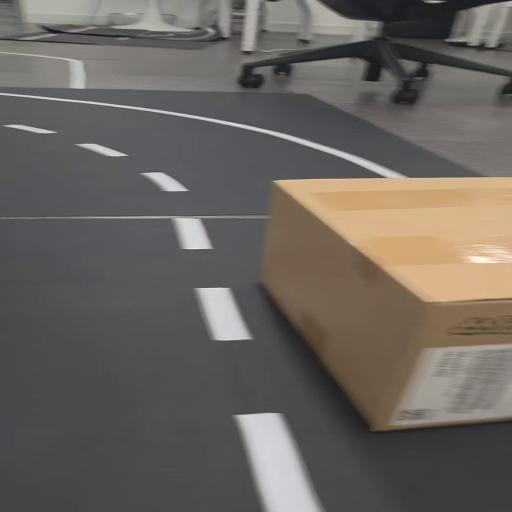Box: (242, 172, 512, 436)
